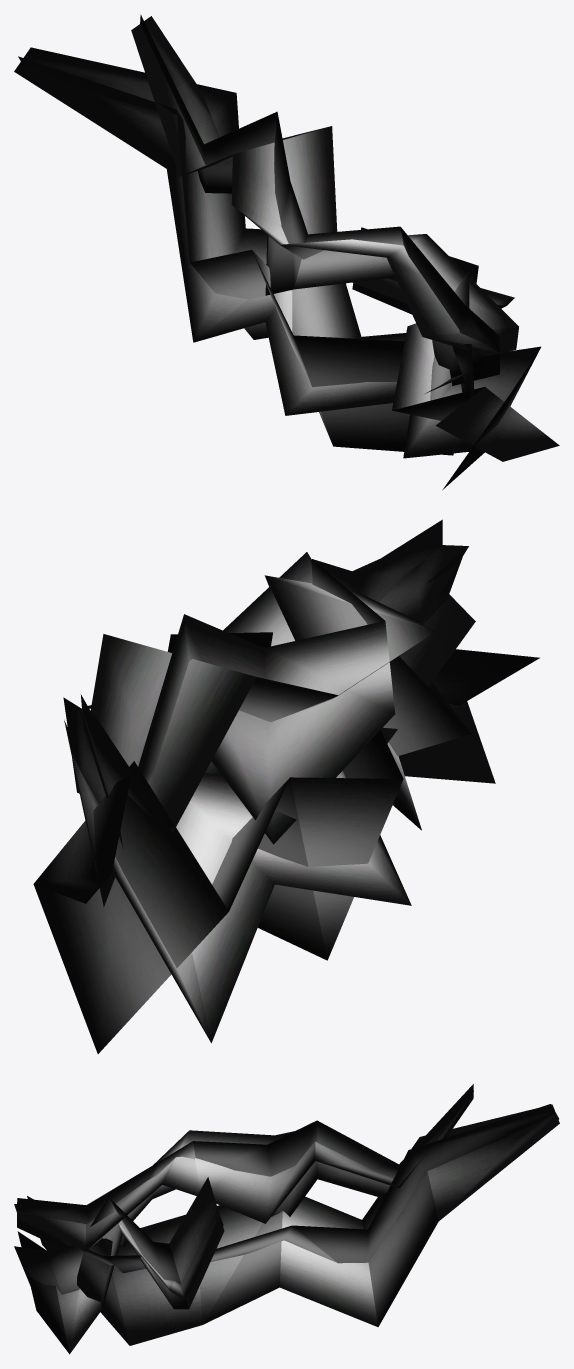
File: vfx_kurp_1173.dae
3 renders of one model, top to bottom at view 1: azimuth 30°, elevation 25°; view 2: azimuth 150°, elevation 25°; view 3: azimuth 270°, elevation 25°, orthographic. The views are drawn at different scales.
Parts seen in each view (by area): view 1: vfx_kurp_1173; view 2: vfx_kurp_1173; view 3: vfx_kurp_1173.
Boxes of the visible parts, x1,y1,x2,y2 form: vfx_kurp_1173: [14, 14, 559, 490]; vfx_kurp_1173: [33, 519, 539, 1053]; vfx_kurp_1173: [14, 1084, 559, 1354].
Size of the model in its own units: 5.83 by 13.91 by 6.63.
1 material, 1 textured.
